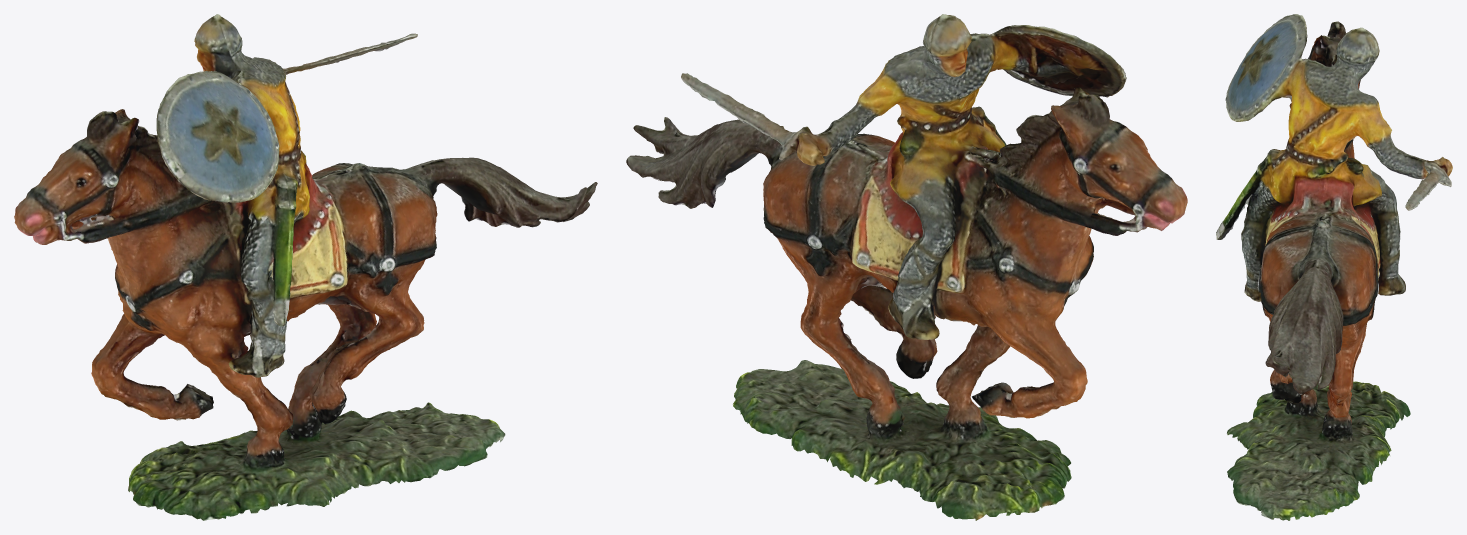
File: elastolin_norman_horseman.glb
3 renders of one model, left to right at view 1: azimuth 30°, elevation 25°; view 2: azimuth 150°, elevation 25°; view 3: azimuth 270°, elevation 25°, orthographic. The views are drawn at different scales.
Visible parts, largest first — view 1: Object_2; view 2: Object_2; view 3: Object_2.
Part boxes in pixels (x1=…): Object_2: x1=14, y1=14, x2=597, y2=520; Object_2: x1=626, y1=14, x2=1187, y2=520; Object_2: x1=1216, y1=14, x2=1452, y2=520.
Size of the model in its own units: 3.63 by 2.86 by 1.52.
Materials: 1 (1 with a texture image).
